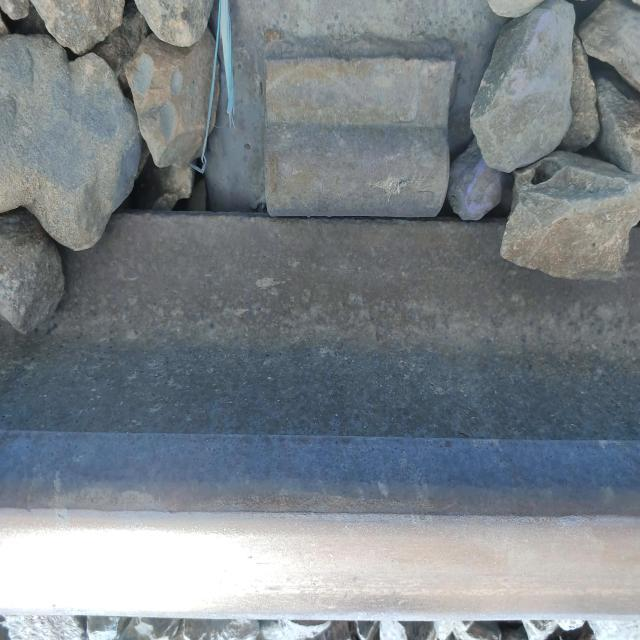Missing Fastener: (262, 34, 455, 217)
